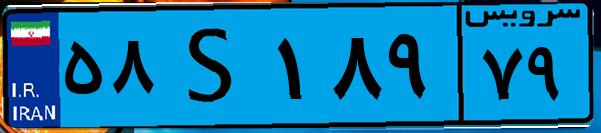1: (270, 28, 330, 110)
5: (57, 26, 110, 100)
7: (475, 38, 525, 113)
8: (330, 28, 385, 110), (110, 28, 158, 98)
9: (385, 28, 445, 110), (525, 38, 570, 115)
S: (158, 12, 270, 120)
